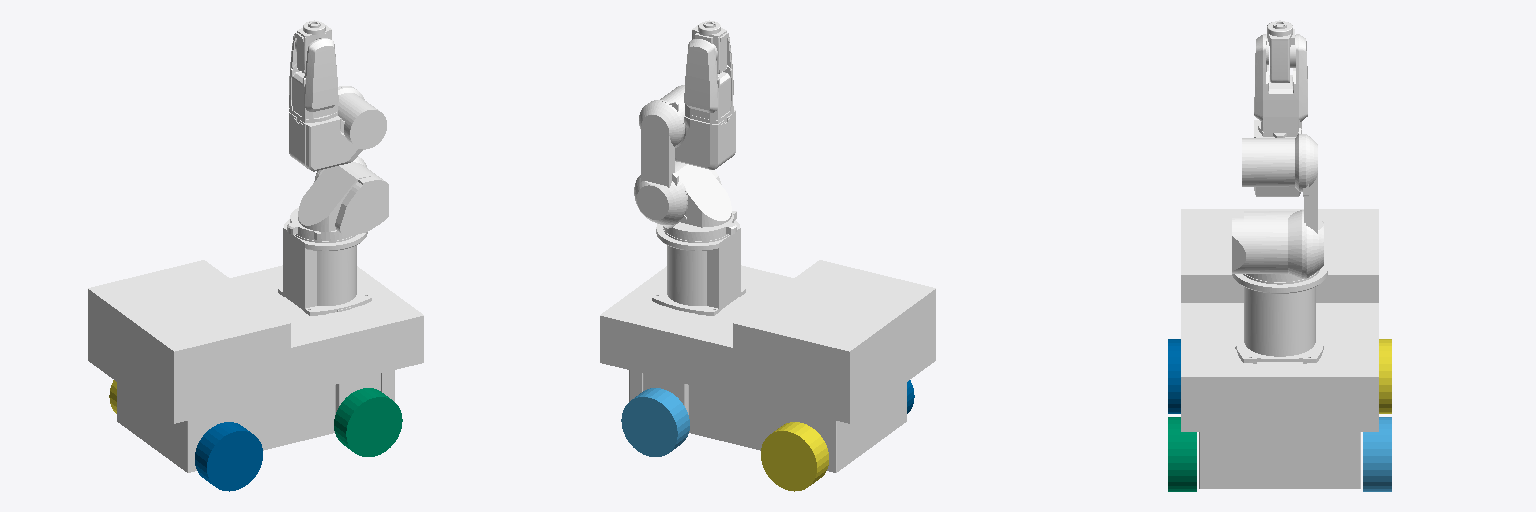
robot.urdf — mobile_platform_with_arm:
<!-- 
URDF description for the mecanum-wheeled mobile platform with the rv3sdb (Mitsubishi Melfa RV-3SDB,
6DOF) manipulator. 

This file is  derived from mobile_platform.urdf. The platform part (chassis, wheels, lidars) is
unchanged. The arm part is ported from the original ROS1 melfa_description xacro
(urdf/rv3sdb.urdf.xacro + rv3sdb.xacro), flattened out of xacro into plain URDF and re-mounted onto
base?link instead of its own free-standing base_link.

TF tree:
    base_link
    |__ wheel_fl / wheel_fr / wheel_bl / wheel_br
    |__ livox_frame/ livox_frame2
    |__ link0 (arm_mounting_joint, fixed)
        |__ link1 (joint1, revolute, Z axis)
             |__ link2 (joint2, revolute, Y axis)
                  |__ link3 (joint3, revolute, Y axis)
                        |__ link4 (joint4, revolute, X axis)
                            |__ link5 (joint5, revolute, Y axis)
                                |__ link6 (joint6, revolute, X axis)
                                    |__ tool_link (tcp, fixed)
                                
-->

<robot name="mobile_platform_with_arm">
    <!-- ============================ PLATFORM GEOMETRY (unchanged) ============================ -->
    <link name="base_link">
        <visual>
            <origin xyz="0 0 0" rpy="0 0 0" />
            <geometry>
                <mesh filename="package://mobile_platform_with_arm/meshes/chassis.stl" />
            </geometry>
            <material name="white">
                <color rgba="1.0 1.0 1.0 1.0" />
            </material>
        </visual>
        <collision>
            <origin xyz="0 0 0" rpy="0 0 0" />
            <geometry>
                <mesh filename="package://mobile_platform_with_arm/meshes/chassis.stl" />
            </geometry>
        </collision>
    </link>
    <link name="wheel_fl">
        <visual>
            <origin rpy="1.5708 0 0" xyz="0 0 0" />
            <geometry>
                <cylinder length="0.077" radius="0.1015" />
            </geometry>
        </visual>
        <collision>
            <origin rpy="1.5708 0 0" xyz="0 0 0" />
            <geometry>
                <cylinder length="0.077" radius="0.1015" />
            </geometry>
        </collision>
    </link>
    <link name="wheel_fr">
        <visual>
            <origin rpy="1.5708 0 0" xyz="0 0 0" />
            <geometry>
                <cylinder length="0.077" radius="0.1015" />
            </geometry>
        </visual>
        <collision>
            <origin rpy="1.5708 0 0" xyz="0 0 0" />
            <geometry>
                <cylinder length="0.077" radius="0.1015" />
            </geometry>
        </collision>
    </link>
    <link name="wheel_bl">
        <visual>
            <origin rpy="1.5708 0 0" xyz="0 0 0" />
            <geometry>
                <cylinder length="0.077" radius="0.1015" />
            </geometry>
        </visual>
        <collision>
            <origin rpy="1.5708 0 0" xyz="0 0 0" />
            <geometry>
                <cylinder length="0.077" radius="0.1015" />
            </geometry>
        </collision>
    </link>
    <link name="wheel_br">
        <visual>
            <origin rpy="1.5708 0 0" xyz="0 0 0" />
            <geometry>
                <cylinder length="0.077" radius="0.1015" />
            </geometry>
        </visual>
        <collision>
            <origin rpy="1.5708 0 0" xyz="0 0 0" />
            <geometry>
                <cylinder length="0.077" radius="0.1015" />
            </geometry>
        </collision>
    </link>
    <link name="livox_frame">
        <visual>
            <origin xyz="0 0 0" rpy="0 0 0" />
            <geometry>
                <mesh filename="package://mobile_platform_with_arm/meshes/livox_mount.stl" />
            </geometry>
            <material name="white">
                <color rgba="1.0 1.0 1.0 1.0" />
            </material>
        </visual>
        <collision>
            <origin xyz="0 0 0" rpy="0 0 0" />
            <geometry>
                <mesh filename="package://mobile_platform_with_arm/meshes/livox_mount.stl" />
            </geometry>
        </collision>
    </link>
    <link name="livox_frame2">
        <visual>
            <origin xyz="0 0 0" rpy="0 0 0" />
            <geometry>
                <mesh filename="package://mobile_platform_with_arm/meshes/livox_mount.stl" />
            </geometry>
            <material name="white">
                <color rgba="1.0 1.0 1.0 1.0" />
            </material>
        </visual>
        <collision>
            <origin xyz="0 0 0" rpy="0 0 0" />
            <geometry>
                <mesh filename="package://mobile_platform_with_arm/meshes/livox_mount.stl" />
            </geometry>
        </collision>
    </link>

    <joint name="motor_fl" type="continuous">
        <origin rpy="0 0 0" xyz="0.2505 0.26536 0" />
        <parent link="base_link" />
        <child link="wheel_fl" />
        <axis xyz="0 1 0" />
        <limit effort="100" velocity="100" />
    </joint>
    <joint name="motor_fr" type="continuous">
        <origin rpy="0 0 0" xyz="0.2505 -0.26536 0" />
        <parent link="base_link" />
        <child link="wheel_fr" />
        <axis xyz="0 1 0" />
        <limit effort="100" velocity="100" />
    </joint>
    <joint name="motor_bl" type="continuous">
        <origin rpy="0 0 0" xyz="-0.2505 0.26536 0" />
        <parent link="base_link" />
        <child link="wheel_bl" />
        <axis xyz="0 1 0" />
        <limit effort="100" velocity="100" />
    </joint>
    <joint name="motor_br" type="continuous">
        <origin rpy="0 0 0" xyz="-0.2505 -0.26536 0" />
        <parent link="base_link" />
        <child link="wheel_br" />
        <axis xyz="0 1 0" />
        <limit effort="100" velocity="100" />
    </joint>
    <joint name="livox_joint1" type="fixed">
        <origin rpy="0 0 0" xyz="0.4583 0 0.0927" />
        <parent link="base_link" />
        <child link="livox_frame" />
    </joint>
    <joint name="livox_joint2" type="fixed">
        <origin rpy="0 0 3.14159" xyz="-0.4583 0 0.0927" />
        <parent link="base_link" />
        <child link="livox_frame2" />
    </joint>

    <!-- ============================ ARM GEOMETRY (rv3sdb, 6 DOF) ============================ -->
    <material name="arm_white">
        <color rgba="1.0 1.0 1.0 1.0" />
    </material>

    <link name="link0">
        <visual>
            <origin rpy="1.5708 0 1.5708" xyz="0 0 0" />
            <geometry>
                <mesh filename="package://mobile_platform_with_arm/meshes/arm/base.stl" />
            </geometry>
            <material name="arm_white" />
        </visual>
        <collision>
            <origin rpy="0 0 0" xyz="0 0 0" />
            <geometry>
                <mesh filename="package://mobile_platform_with_arm/meshes/arm/base.stl" />
            </geometry>
        </collision>
    </link>
    <link name="link1">
        <visual>
            <origin rpy="1.5708 0 1.5708" xyz="0 0 0" />
            <geometry>
                <mesh filename="package://mobile_platform_with_arm/meshes/arm/shoulder.stl" />
            </geometry>
            <material name="arm_white" />
        </visual>
        <collision>
            <origin rpy="1.5708 0 1.5708" xyz="0 0 0" />
            <geometry>
                <mesh filename="package://mobile_platform_with_arm/meshes/arm/shoulder.stl" />
            </geometry>
        </collision>
    </link>
    <link name="link2">
        <visual>
            <origin rpy="1.5708 0 1.5708" xyz="0 0 0" />
            <geometry>
                <mesh filename="package://mobile_platform_with_arm/meshes/arm/upper_arm.stl" />
            </geometry>
            <material name="arm_white" />
        </visual>
        <collision>
            <origin rpy="1.5708 0 1.5708" xyz="0 0 0" />
            <geometry>
                <mesh filename="package://mobile_platform_with_arm/meshes/arm/upper_arm.stl" />
            </geometry>
        </collision>
    </link>
    <link name="link3">
        <visual>
            <origin rpy="1.5708 0 1.5708" xyz="0 0 0" />
            <geometry>
                <mesh filename="package://mobile_platform_with_arm/meshes/arm/elbow.stl" />
            </geometry>
            <material name="arm_white" />
        </visual>
        <collision>
            <origin rpy="1.5708 0 1.5708" xyz="0 0 0" />
            <geometry>
                <mesh filename="package://mobile_platform_with_arm/meshes/arm/elbow.stl" />
            </geometry>
        </collision>
    </link>
    <link name="link4">
        <visual>
            <origin rpy="3.14159 0 1.5708" xyz="0 0 0" />
            <geometry>
                <mesh filename="package://mobile_platform_with_arm/meshes/arm/fore_arm.stl" />
            </geometry>
            <material name="arm_white" />
        </visual>
        <collision>
            <origin rpy="3.14159 0 1.5708" xyz="0 0 0" />
            <geometry>
                <mesh filename="package://mobile_platform_with_arm/meshes/arm/fore_arm.stl" />
            </geometry>
        </collision>
    </link>
    <link name="link5">
        <visual>
            <origin rpy="3.14159 0 1.5708" xyz="0 0 0" />
            <geometry>
                <mesh filename="package://mobile_platform_with_arm/meshes/arm/wrist.stl" />
            </geometry>
            <material name="arm_white" />
        </visual>
        <collision>
            <origin rpy="3.14159 0 1.5708" xyz="0 0 0" />
            <geometry>
                <mesh filename="package://mobile_platform_with_arm/meshes/arm/wrist.stl" />
            </geometry>
        </collision>
    </link>
    <link name="link6">
        <visual>
            <origin rpy="3.14159 0 1.5708" xyz="0 0 0" />
            <geometry>
                <mesh
                    filename="package://mobile_platform_with_arm/meshes/arm/mounting_interface.stl" />
            </geometry>
            <material name="arm_white" />
        </visual>
        <collision>
            <origin rpy="3.14159 0 1.5708" xyz="0 0 0" />
            <geometry>
                <mesh
                    filename="package://mobile_platform_with_arm/meshes/arm/mounting_interface.stl" />
            </geometry>
        </collision>
    </link>
    <!-- Gripper mesh (hvataljka.stl) was not provided, so tool_link is a bare frame for now. -->
    <link name="tool_link" />

    <!-- Mount the arm on top of the chassis. -->
    <joint name="arm_mounting_joint" type="fixed">
        <origin rpy="0 0 0" xyz="0.25 0 0.325" />
        <parent link="base_link" />
        <child link="link0" />
    </joint>
    <joint name="joint1" type="revolute">
        <origin rpy="0 0 0" xyz="0 0 0.255" />
        <parent link="link0" />
        <child link="link1" />
        <axis xyz="0 0 1" />
        <limit lower="-2.96706" upper="2.96706" effort="50.0" velocity="4.36332" />
    </joint>
    <joint name="joint2" type="revolute">
        <origin rpy="0 0 0" xyz="0.095 0.108 0.095" />
        <parent link="link1" />
        <child link="link2" />
        <axis xyz="0 1 0" />
        <limit lower="-1.5708" upper="2.35619" effort="50.0" velocity="3.26377" />
    </joint>
    <joint name="joint3" type="revolute">
        <origin rpy="0 -1.5708 0" xyz="0 -0.044 0.245" />
        <parent link="link2" />
        <child link="link3" />
        <axis xyz="0 1 0" />
        <limit lower="-0.349066" upper="2.98451" effort="50.0" velocity="4.36332" />
    </joint>
    <joint name="joint4" type="revolute">
        <origin rpy="0 0 0" xyz="0.055 -0.064 0.135" />
        <parent link="link3" />
        <child link="link4" />
        <axis xyz="1 0 0" />
        <limit lower="-2.79253" upper="2.79253" effort="20.0" velocity="7.19076" />
    </joint>
    <joint name="joint5" type="revolute">
        <origin rpy="0 0 0" xyz="0.215 0.037 0" />
        <parent link="link4" />
        <child link="link5" />
        <axis xyz="0 1 0" />
        <limit lower="-2.0944" upper="2.0944" effort="20.0" velocity="7.19076" />
    </joint>
    <joint name="joint6" type="revolute">
        <origin rpy="0 0 0" xyz="0.062 -0.037 0" />
        <parent link="link5" />
        <child link="link6" />
        <axis xyz="1 0 0" />
        <limit lower="-6.28319" upper="6.28319" effort="10.0" velocity="11.5192" />
    </joint>
    <joint name="tcp" type="fixed">
        <origin rpy="0 0 0" xyz="0.039 0 0" />
        <parent link="link6" />
        <child link="tool_link" />
    </joint>

    <!-- ========================= ros2_control (arm only) ============================ -->
    <!-- Only the 6 arm joints are exposed here for MoveIt2 / joint_trajectory_controller. -->
    <ros2_control name="ArmWebotsControl" type="system">
        <hardware>
            <plugin>webots_ros2_control::Ros2ControlSystem</plugin>
        </hardware>
        <joint name="joint1">
            <command_interface name="position" />
            <state_interface name="position" />
            <state_interface name="velocity" />
        </joint>
        <joint name="joint2">
            <command_interface name="position" />
            <state_interface name="position" />
            <state_interface name="velocity" />
        </joint>
        <joint name="joint3">
            <command_interface name="position" />
            <state_interface name="position" />
            <state_interface name="velocity" />
        </joint>
        <joint name="joint4">
            <command_interface name="position" />
            <state_interface name="position" />
            <state_interface name="velocity" />
        </joint>
        <joint name="joint5">
            <command_interface name="position" />
            <state_interface name="position" />
            <state_interface name="velocity" />
        </joint>
        <joint name="joint6">
            <command_interface name="position" />
            <state_interface name="position" />
            <state_interface name="velocity" />
        </joint>
    </ros2_control>

    <!-- ======================== WEBOTS / ROS2 PLUGINS ============================ -->
    <webots>
        <!-- Custom mecanum kinematics controller (unchanged, wheels only) -->
        <plugin type="mobile_platform_sim.mecanum_robot_driver.MecanumRobotDriver" />
        <!-- ros2_control bridge for the arm joints -->
        <plugin type="webots_ros2_control::Ros2Control" />
        <device reference="lidar" type="Lidar">
            <ros>
                <enabled>true</enabled>
                <updateRate>10</updateRate>
                <topicName>/livox/lidar_front</topicName>
                <frameName>livox_frame</frameName>
            </ros>
        </device>
        <device reference="lidar2" type="Lidar">
            <ros>
                <enabled>true</enabled>
                <updateRate>10</updateRate>
                <topicName>/livox/lidar_back</topicName>
                <frameName>livox_frame2</frameName>
            </ros>
        </device>
    </webots>

</robot>

--- Render facts (derived) ---
3 views of the same robot in one strip: view 1: azimuth 30°, elevation 25°; view 2: azimuth 150°, elevation 25°; view 3: azimuth 270°, elevation 25° (orthographic).
Robot: mobile_platform_with_arm — 15 links, 14 joints (6 revolute, 4 continuous, 4 fixed); root link base_link; default pose: all joints at 0.
Links seen in each view (by area): view 1: base_link, link1, link0, link3, wheel_br, wheel_fr, link4, link5; view 2: base_link, link0, link2, link1, wheel_bl, wheel_fl, link4, link3, link5; view 3: base_link, link0, link1, link4, link3, link2, wheel_fl, wheel_fr, link5, wheel_bl, wheel_br.
Boxes of the visible links, left/top/right/bottom form: base_link: left=88, top=260, right=423, bottom=472; link1: left=287, top=156, right=388, bottom=240; link0: left=278, top=219, right=371, bottom=315; link3: left=289, top=87, right=386, bottom=171; wheel_br: left=195, top=422, right=262, bottom=491; wheel_fr: left=334, top=388, right=402, bottom=456; link4: left=289, top=34, right=338, bottom=122; link5: left=295, top=25, right=331, bottom=73; base_link: left=600, top=260, right=935, bottom=472; link0: left=652, top=220, right=745, bottom=315; link2: left=634, top=101, right=687, bottom=224; link1: left=663, top=161, right=736, bottom=240; wheel_bl: left=761, top=422, right=828, bottom=491; wheel_fl: left=621, top=388, right=689, bottom=456; link4: left=684, top=37, right=733, bottom=123; link3: left=651, top=85, right=735, bottom=169; link5: left=692, top=25, right=728, bottom=73; base_link: left=1181, top=209, right=1378, bottom=488; link0: left=1232, top=260, right=1327, bottom=363; link1: left=1232, top=210, right=1317, bottom=281; link4: left=1254, top=34, right=1307, bottom=137; link3: left=1242, top=120, right=1301, bottom=196; link2: left=1302, top=134, right=1323, bottom=278; wheel_fl: left=1363, top=417, right=1391, bottom=491; wheel_fr: left=1168, top=417, right=1196, bottom=491; link5: left=1267, top=29, right=1295, bottom=82; wheel_bl: left=1379, top=339, right=1391, bottom=413; wheel_br: left=1168, top=339, right=1180, bottom=413.
Size in the robot's own frame: 0.9 by 0.6077 by 1.38 metres.
8 mesh visuals loaded from 9 distinct referenced files (8 binary STL); not drawn: 2 (reference not matched to a file when rendering).
